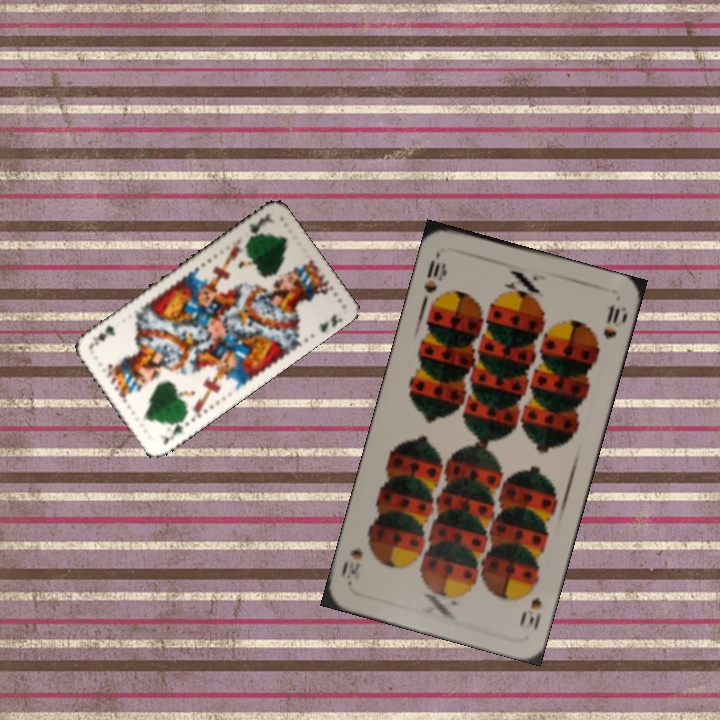GK: (243, 209, 274, 241), (159, 414, 187, 447)
S10: (515, 577, 544, 634), (420, 248, 449, 296)
